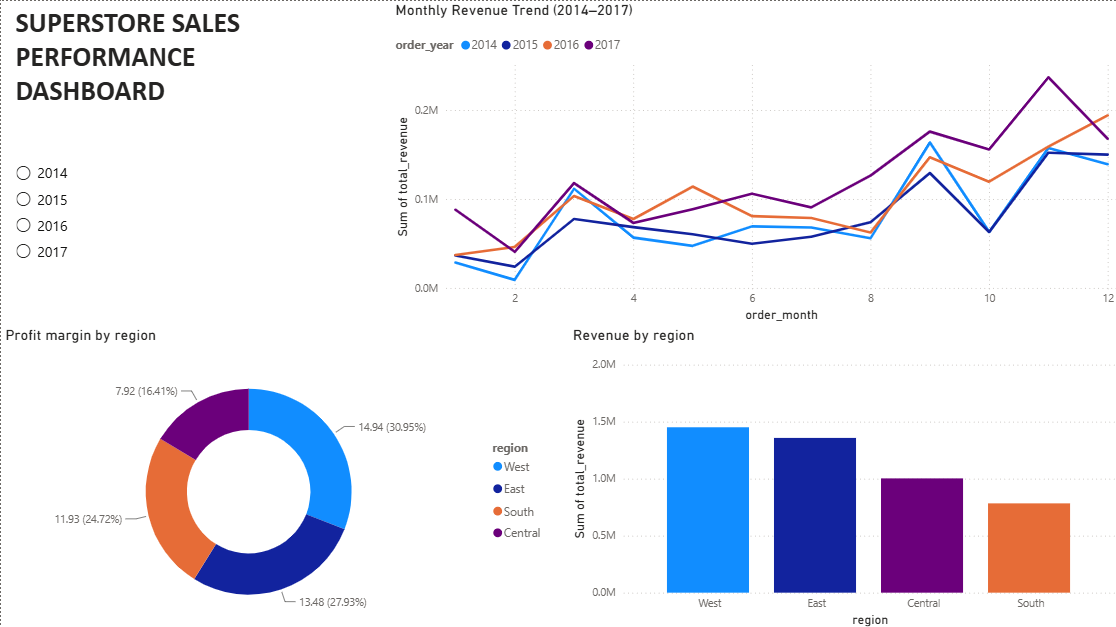

This screenshot's page, from the dashboard's own definition file:
{"tool":"powerbi","page":{"name":"Overview","canvas":[1280,720],"ordinal":0},"visuals":[{"type":"lineChart","title":"Monthly Revenue Trend (2014–2017)","fields":{"Category":["monthly_revenue.order_month"],"Y":["Sum(monthly_revenue.total_revenue)"],"Series":["monthly_revenue.order_year"]},"box":[445.7,0,834.3,371.4],"z":0},{"type":"clusteredColumnChart","title":"Revenue by region","fields":{"Category":["region_performance.region"],"Y":["Sum(region_performance.total_revenue)"]},"box":[648.6,371.4,631.4,348.6],"z":1000},{"type":"donutChart","title":"Profit margin by region","fields":{"Category":["region_performance.region"],"Y":["Avg(region_performance.profit_margin_pct)"]},"box":[0,371.4,631.4,348.6],"z":2000},{"type":"listSlicer","fields":{"Values":["monthly_revenue.order_year"]},"box":[11.4,145.7,372.9,185.7],"z":4000},{"type":"textbox","box":[11,0,373,174],"z":4001}]}

Visuals, with their boxes in screenshot pixels (x1, y1, x2, y2), scaled from the page's 1280x720 canvas onto the 1116x627 screenshot:
"Monthly Revenue Trend (2014–2017)" lineChart: (left=389, top=0, right=1115, bottom=323)
"Revenue by region" clusteredColumnChart: (left=565, top=323, right=1115, bottom=626)
"Profit margin by region" donutChart: (left=0, top=323, right=551, bottom=626)
listSlicer - monthly_revenue.order_year: (left=10, top=127, right=335, bottom=289)
textbox: (left=10, top=0, right=335, bottom=152)
